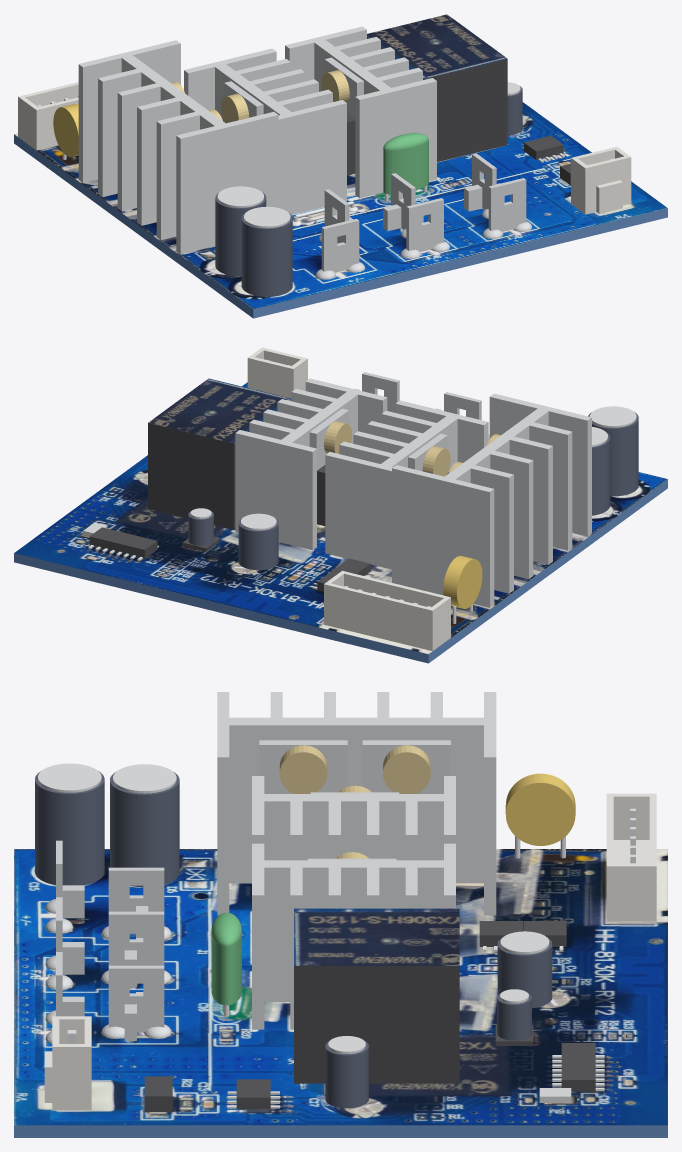
File: rover-board.glb
3 views of the same model, one above another, from view 1: azimuth 30°, elevation 25°; view 2: azimuth 150°, elevation 25°; view 3: azimuth 270°, elevation 25° (orthographic). The views are drawn at different scales.
Parts seen in each view (by area): view 1: Heatsink_H1_docname_6_plate_comb, PCB_top_photo_routing-10, Heatsink_H2_docname_6_plate_U, Heatsink_H3_docname_6_plate_U, PCB_HH-8130K-RXT2_core_75x75x1.6, Relay_JK_YONGNENG_YX306H-S-112G, Relay_top_photo_routing-10, C15_electrolytic_8mm_sleeve, Header_2way_label_unknown_RL_or_RA, Header_7way_top_left_no_designator_read_pins_+_V_ROCK_-_B_F_, C16_green_film_cap_2A104J, Blade_group1_plusminus_tab_B (+16 smaller); view 2: Heatsink_H1_docname_6_plate_comb, PCB_top_photo_routing-10, Heatsink_H2_docname_6_plate_U, Heatsink_H3_docname_6_plate_U, Relay_JK_YONGNENG_YX306H-S-112G, Header_7way_top_left_no_designator_read_pins_+_V_ROCK_-_B_F_, PCB_HH-8130K-RXT2_core_75x75x1.6, Relay_top_photo_routing-10, Header_2way_label_unknown_RL_or_RA, C15_electrolytic_8mm_sleeve, Cap_near_R1_V1_designator_unknown_sleeve, F1_yellow_disc_marking_unknown (+12 smaller); view 3: PCB_top_photo_routing-10, Heatsink_H1_docname_6_plate_comb, Relay_JK_YONGNENG_YX306H-S-112G, Heatsink_H3_docname_6_plate_U, Heatsink_H2_docname_6_plate_U, Relay_top_photo_routing-10, PCB_HH-8130K-RXT2_core_75x75x1.6, C15_electrolytic_8mm_sleeve, Header_7way_top_left_no_designator_read_pins_+_V_ROCK_-_B_F_, C14_electrolytic_8mm_sleeve, Blade_group3_label_unknown_tab_A, F1_yellow_disc_marking_unknown (+23 smaller).
Part boxes in pixels (bbox=[...]): Heatsink_H1_docname_6_plate_comb: bbox=[78, 40, 278, 254]; PCB_top_photo_routing-10: bbox=[14, 102, 667, 309]; Heatsink_H2_docname_6_plate_U: bbox=[184, 48, 346, 214]; Heatsink_H3_docname_6_plate_U: bbox=[285, 26, 436, 198]; PCB_HH-8130K-RXT2_core_75x75x1.6: bbox=[14, 134, 667, 318]; Relay_JK_YONGNENG_YX306H-S-112G: bbox=[423, 59, 507, 161]; Relay_top_photo_routing-10: bbox=[367, 14, 507, 79]; C15_electrolytic_8mm_sleeve: bbox=[241, 212, 292, 296]; Header_2way_label_unknown_RL_or_RA: bbox=[571, 146, 631, 214]; Header_7way_top_left_no_designator_read_pins_+_V_ROCK_-_B_F_: bbox=[18, 82, 78, 150]; C16_green_film_cap_2A104J: bbox=[383, 133, 428, 194]; Blade_group1_plusminus_tab_B: bbox=[315, 218, 365, 279]; Heatsink_H1_docname_6_plate_comb: bbox=[392, 393, 591, 607]; PCB_top_photo_routing-10: bbox=[14, 382, 667, 654]; Heatsink_H2_docname_6_plate_U: bbox=[325, 400, 488, 569]; Heatsink_H3_docname_6_plate_U: bbox=[235, 378, 387, 550]; Relay_JK_YONGNENG_YX306H-S-112G: bbox=[148, 423, 235, 529]; Header_7way_top_left_no_designator_read_pins_+_V_ROCK_-_B_F_: bbox=[324, 570, 450, 651]; PCB_HH-8130K-RXT2_core_75x75x1.6: bbox=[14, 479, 667, 663]; Relay_top_photo_routing-10: bbox=[148, 378, 291, 443]; Header_2way_label_unknown_RL_or_RA: bbox=[247, 347, 307, 398]; C15_electrolytic_8mm_sleeve: bbox=[588, 412, 638, 496]; Cap_near_R1_V1_designator_unknown_sleeve: bbox=[238, 518, 278, 570]; F1_yellow_disc_marking_unknown: bbox=[443, 555, 482, 608]; PCB_top_photo_routing-10: bbox=[14, 849, 667, 1125]; Heatsink_H1_docname_6_plate_comb: bbox=[217, 692, 496, 915]; Relay_JK_YONGNENG_YX306H-S-112G: bbox=[294, 966, 459, 1083]; Heatsink_H3_docname_6_plate_U: bbox=[252, 843, 455, 1029]; Heatsink_H2_docname_6_plate_U: bbox=[252, 776, 455, 860]; Relay_top_photo_routing-10: bbox=[294, 908, 459, 965]; PCB_HH-8130K-RXT2_core_75x75x1.6: bbox=[14, 1125, 667, 1137]; C15_electrolytic_8mm_sleeve: bbox=[35, 771, 104, 885]; Header_7way_top_left_no_designator_read_pins_+_V_ROCK_-_B_F_: bbox=[606, 793, 656, 921]; C14_electrolytic_8mm_sleeve: bbox=[110, 771, 179, 887]; Blade_group3_label_unknown_tab_A: bbox=[101, 965, 171, 1040]; F1_yellow_disc_marking_unknown: bbox=[505, 773, 575, 845].
Size of the model in its own units: 0.075 by 0.0225 by 0.075.
16 materials, 3 textured.
